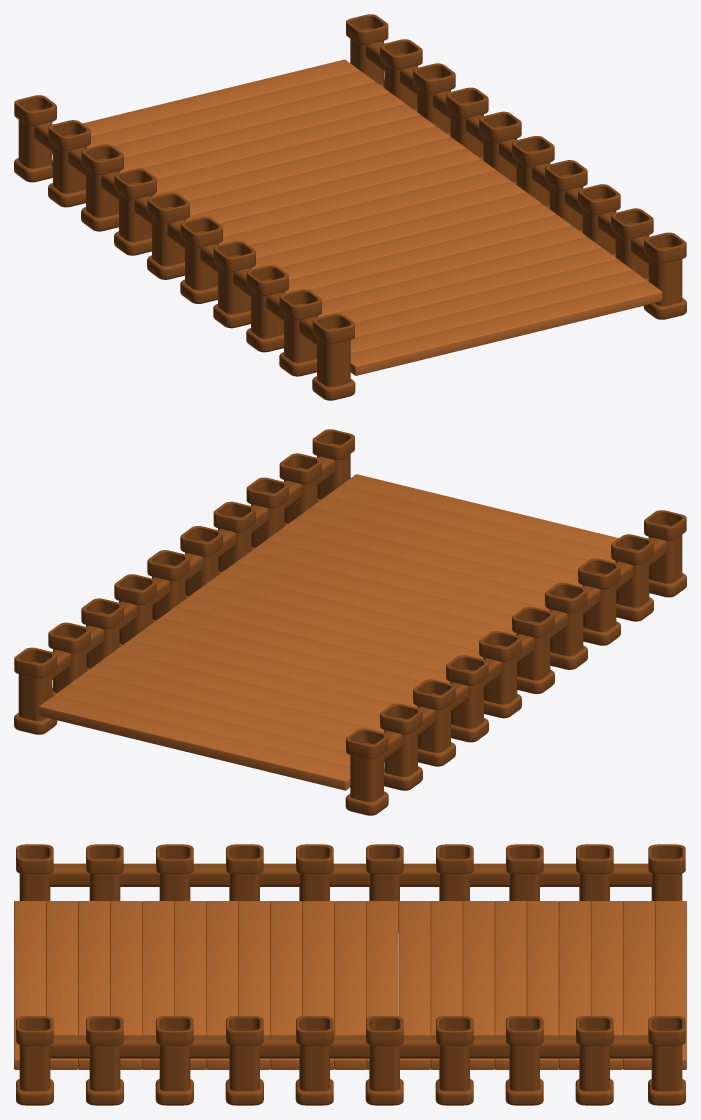
The model's file is bridge wood.fbx.
3 renders of one model, top to bottom at view 1: azimuth 30°, elevation 25°; view 2: azimuth 150°, elevation 25°; view 3: azimuth 270°, elevation 25°, orthographic. The views are drawn at different scales.
Parts seen in each view (by area): view 1: Cube.267; view 2: Cube.267; view 3: Cube.267.
Part boxes in pixels (x1,y1,x2,y2): Cube.267: [14, 14, 686, 400]; Cube.267: [14, 429, 686, 815]; Cube.267: [14, 844, 686, 1105].
Size of the model in its own units: 57600 by 10712 by 87344.
